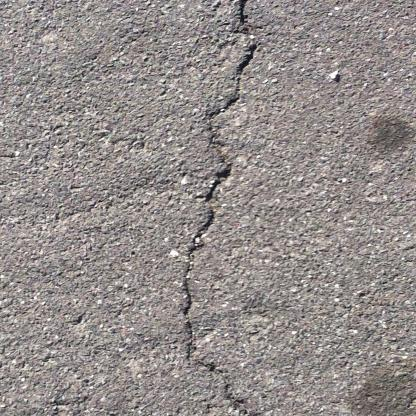Cracks: (163, 0, 292, 416)
